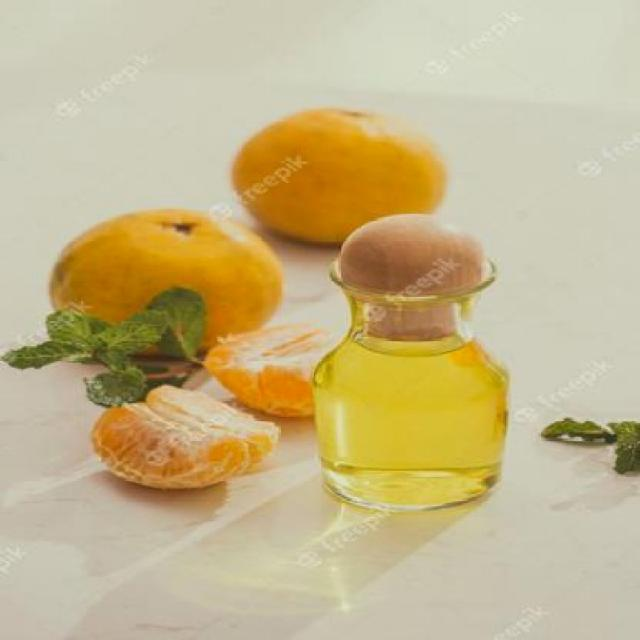Jeruk Sudah Matang: (49, 208, 288, 354), (234, 102, 446, 248)
